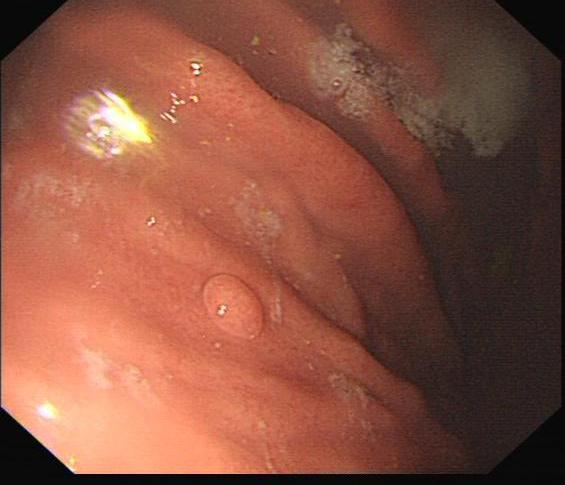Polyp: (193, 261, 289, 355)
